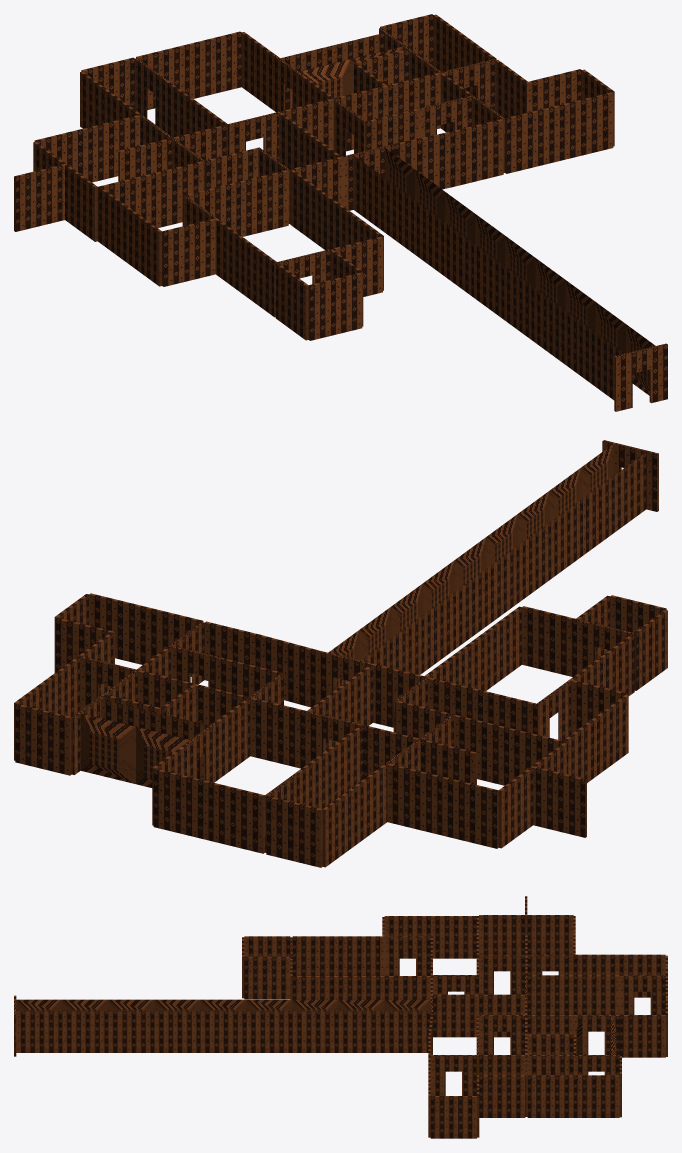
The model's file is WALLS.fbx.
3 views of the same model, one above another, from view 1: azimuth 30°, elevation 25°; view 2: azimuth 150°, elevation 25°; view 3: azimuth 270°, elevation 25° (orthographic). The views are drawn at different scales.
Parts seen in each view (by area): view 1: Plane.057, Plane.056, Plane.040, Plane.041, Plane.072, Plane.042, Plane.060, Plane.016, Plane.054, Plane.030, Plane.058, Plane.020 (+52 smaller); view 2: Plane.057, Plane.056, Plane.013, Plane.021, Plane.002, Plane.032, Plane.012, Plane.016, Plane.020, Plane.009, Plane.070, Plane.030 (+54 smaller); view 3: Plane.056, Plane.057, Plane.073, Plane.033, Plane.036, Plane.037, Plane.039, Plane.017, Plane.062, Plane.064, Plane.006, Plane.008 (+25 smaller).
Part boxes in pixels (x1,y1,x2,y2): Plane.057: (353,155,623,400); Plane.056: (385,148,655,395); Plane.040: (558,92,613,160); Plane.041: (505,105,559,173); Plane.072: (308,272,362,340); Plane.042: (449,119,503,187); Plane.060: (162,219,215,286); Plane.016: (188,31,241,98); Plane.054: (235,170,288,236); Plane.030: (14,163,67,231); Plane.058: (614,343,667,411); Plane.020: (87,115,140,182); Plane.057: (361,452,646,674); Plane.056: (328,444,613,690); Plane.013: (81,713,189,787); Plane.021: (442,777,498,848); Plane.002: (266,796,322,867); Plane.032: (15,704,71,775); Plane.012: (208,782,264,853); Plane.016: (153,768,209,840); Plane.020: (387,763,443,835); Plane.009: (250,697,306,768); Plane.070: (522,606,578,676); Plane.030: (531,766,586,837); Plane.056: (16,1011,430,1052); Plane.057: (16,999,430,1011); Plane.073: (244,956,290,999); Plane.033: (573,1075,619,1117); Plane.036: (527,1075,573,1117); Plane.037: (479,1075,525,1117); Plane.039: (430,1096,476,1138); Plane.017: (619,1015,665,1057); Plane.062: (433,994,478,1037); Plane.064: (430,916,476,958); Plane.006: (573,975,619,1014); Plane.008: (527,975,573,1014).
Size of the model in its own units: 2060 by 200 by 2841.
